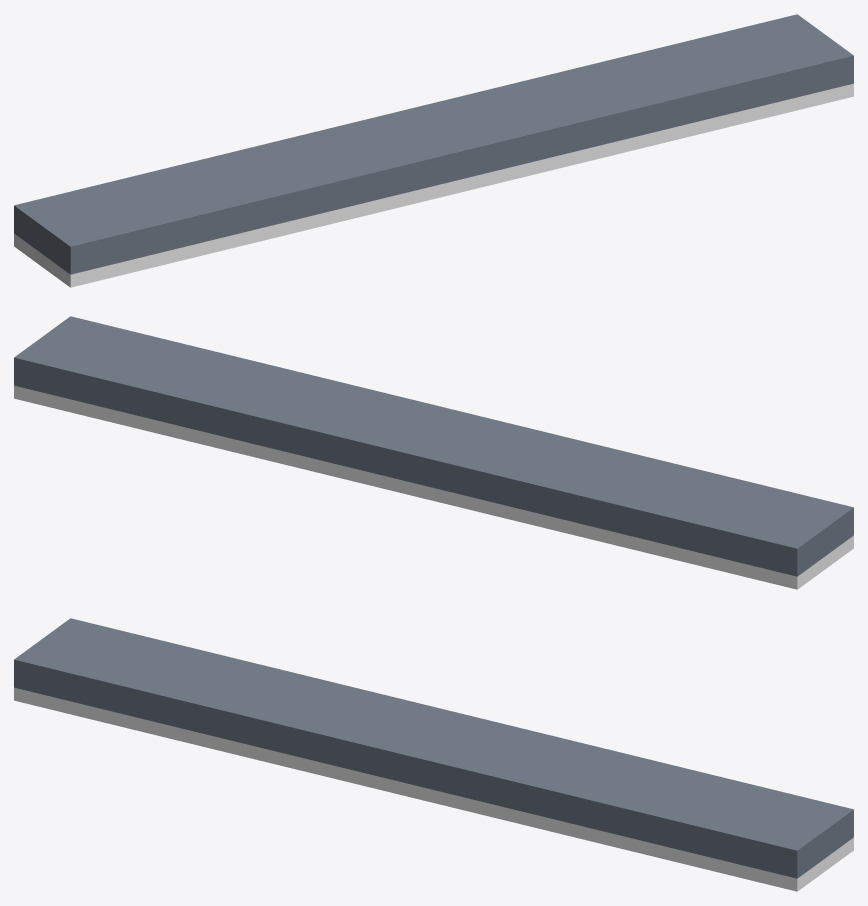
File: SM_roof_01_side.glb
3 views of the same model, one above another, from view 1: azimuth 30°, elevation 25°; view 2: azimuth 150°, elevation 25°; view 3: azimuth 330°, elevation 25° (orthographic).
Visible parts, largest first — view 1: SM_roof_01_side; view 2: SM_roof_01_side; view 3: SM_roof_01_side.
Boxes of the visible parts, <box> form: SM_roof_01_side: <box>14,14,853,287</box>; SM_roof_01_side: <box>14,316,853,589</box>; SM_roof_01_side: <box>14,618,853,891</box>.
Bounding box in the file's own units: 4 × 0.2 × 0.5.
Materials: 1 (1 with a texture image).
